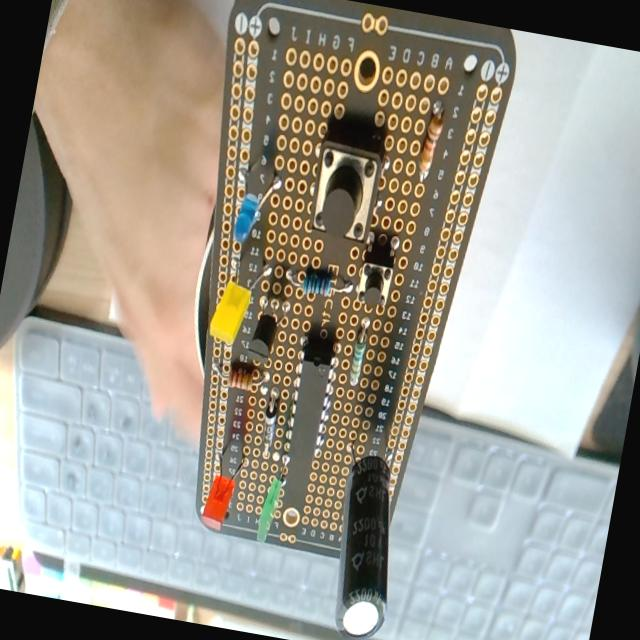Electrolytic capacitor: (315, 425, 416, 640)
IC: (282, 338, 341, 460)
diode: (258, 391, 282, 458)
led: (228, 162, 282, 250), (199, 448, 246, 534), (206, 278, 252, 348), (254, 470, 284, 544)
resistor: (416, 109, 446, 184), (346, 316, 371, 388), (300, 270, 332, 298), (226, 366, 256, 392)
switch: (304, 128, 386, 246), (354, 234, 399, 312)
transistor: (244, 288, 284, 365)
